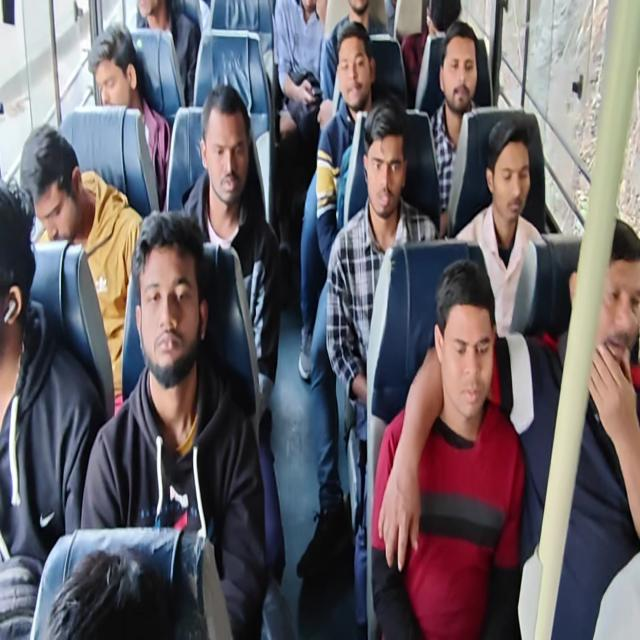person: (2, 1, 638, 638), (381, 216, 640, 638), (79, 208, 267, 638), (324, 98, 440, 634), (370, 258, 526, 638), (297, 20, 387, 577), (0, 177, 105, 637), (19, 123, 144, 415), (181, 83, 281, 414), (453, 116, 544, 338), (315, 21, 381, 268), (87, 22, 171, 210), (44, 544, 207, 639), (428, 20, 479, 236), (272, 0, 328, 141), (134, 0, 201, 106), (324, 0, 389, 98), (401, 0, 461, 106)
